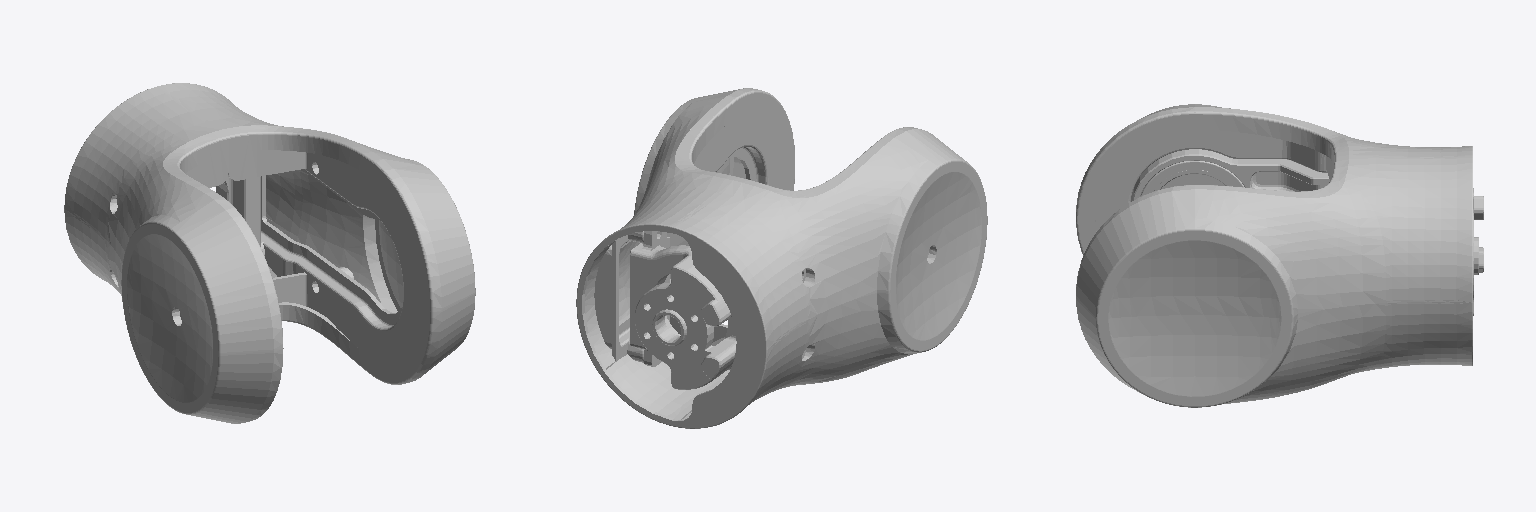
The model's file is r_arm_roll.obj.
3 renders of one model, left to right at view 1: azimuth 30°, elevation 25°; view 2: azimuth 150°, elevation 25°; view 3: azimuth 270°, elevation 25°, orthographic.
Visible parts, largest first — view 1: obj1; view 2: obj1; view 3: obj1.
Part boxes in pixels (x1,y1,x2,y2): obj1: (64, 83, 475, 423); obj1: (576, 88, 987, 428); obj1: (1076, 104, 1483, 407).
Bounding box in the file's own units: 0.122 × 0.098 × 0.168.